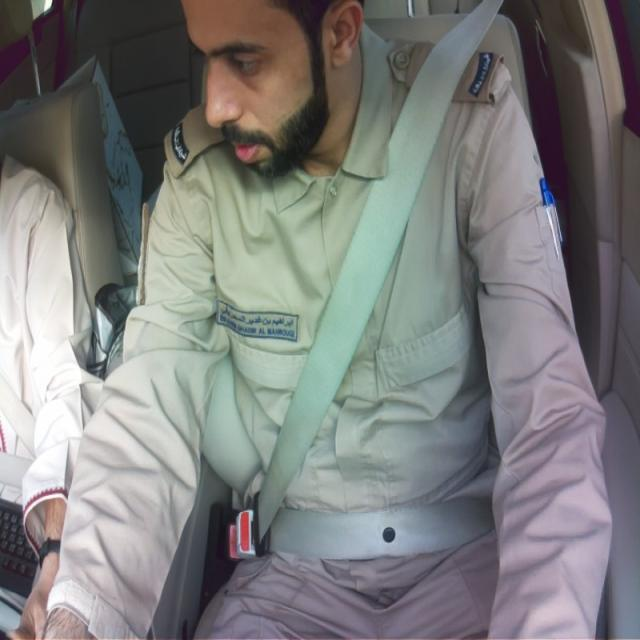seatbelt: (259, 0, 499, 560)
